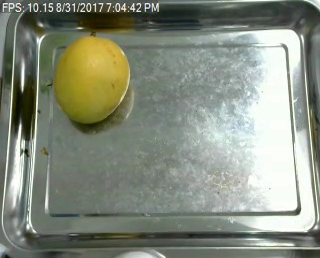Mango: (54, 34, 130, 123)
